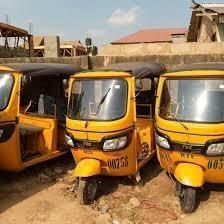keke: (67, 67, 155, 204), (154, 61, 224, 213), (0, 60, 66, 190)
